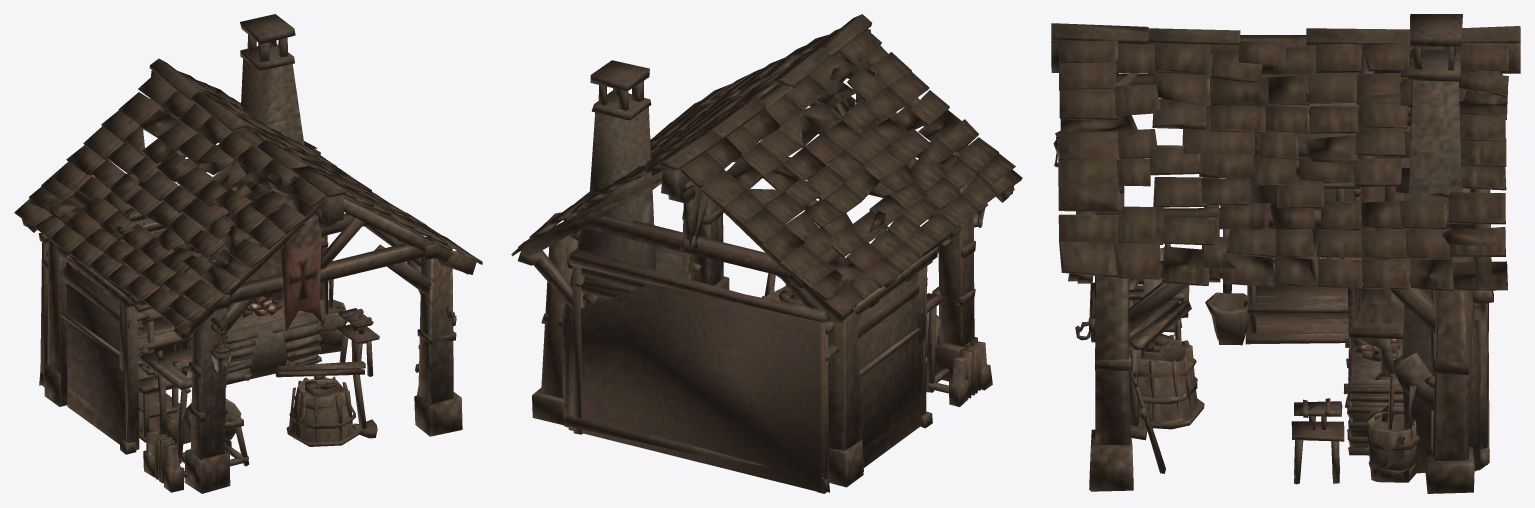
File: x_blacksmith.glb
3 views of the same model, side by side, from view 1: azimuth 30°, elevation 25°; view 2: azimuth 150°, elevation 25°; view 3: azimuth 270°, elevation 25° (orthographic). The views are drawn at different scales.
Parts seen in each view (by area): view 1: x_blacksmith; view 2: x_blacksmith; view 3: x_blacksmith.
Boxes of the visible parts, left/top/right/bottom form: x_blacksmith: left=14, top=14, right=482, bottom=493; x_blacksmith: left=511, top=14, right=1022, bottom=493; x_blacksmith: left=1051, top=14, right=1520, bottom=493.
Bounding box in the file's own units: 0.9729 × 0.9851 × 0.9851.
Materials: 1 (1 with a texture image).
